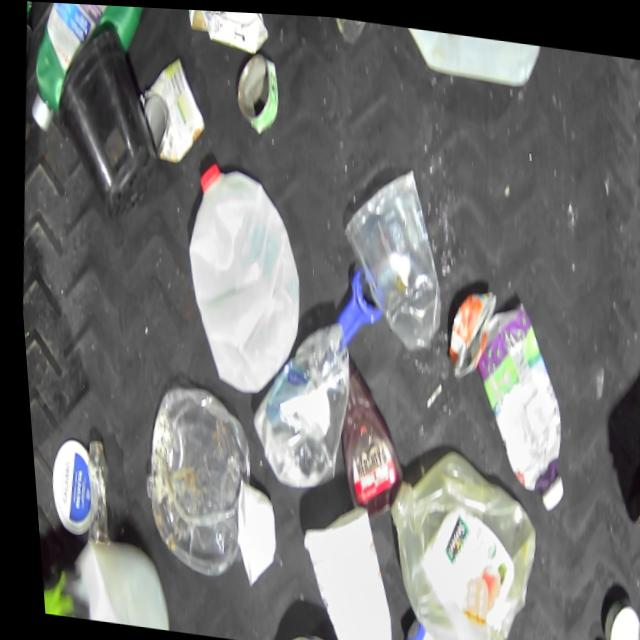can: (132, 49, 212, 170), (436, 278, 498, 382), (228, 47, 283, 135), (587, 586, 635, 640), (259, 626, 359, 640)
milk_jug: (165, 154, 313, 402), (364, 435, 543, 640), (45, 528, 169, 629), (391, 609, 500, 640)
non_white_jug: (20, 1, 162, 148)
